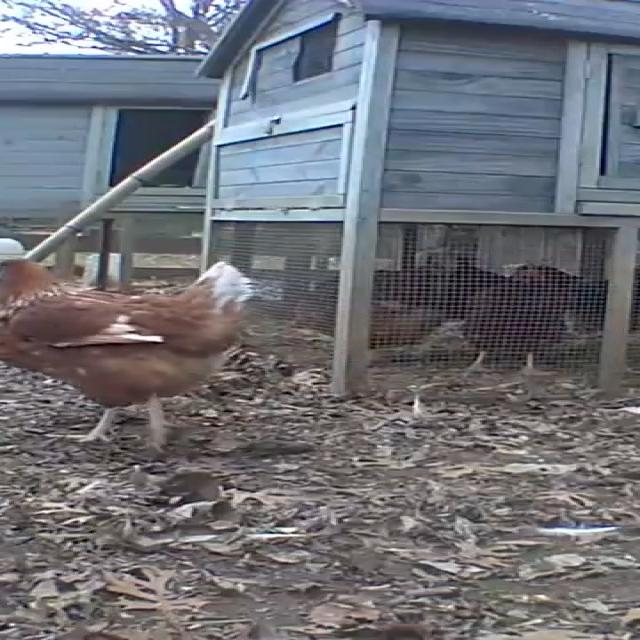walking: (0, 232, 249, 462)
